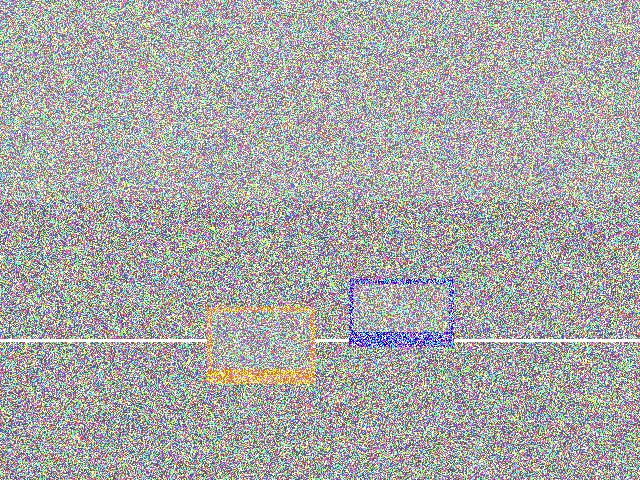car: (541, 349, 611, 430)
motorcycle: (386, 211, 500, 315), (205, 198, 298, 267)
